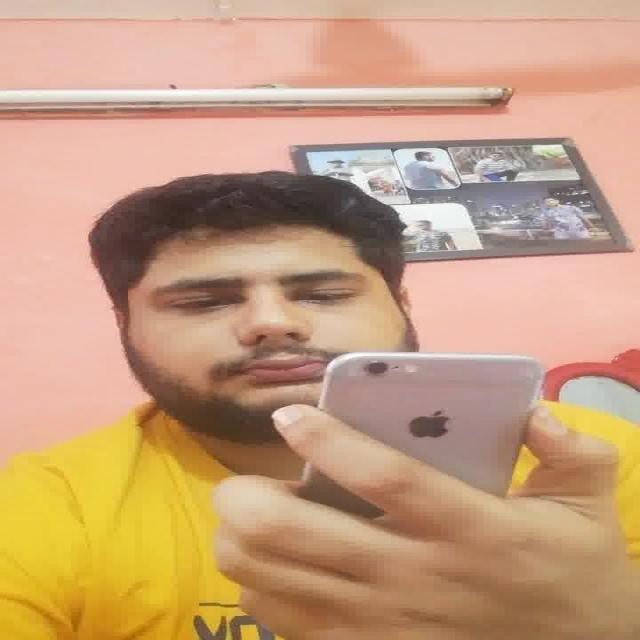Phone: (307, 349, 545, 496)
